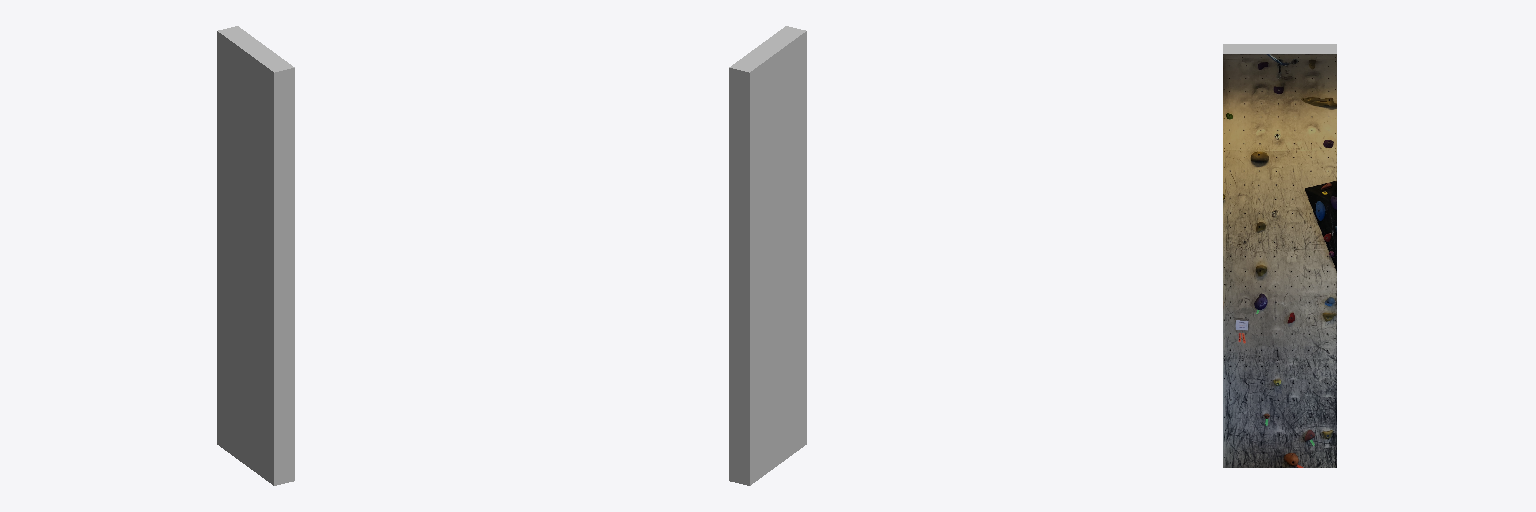
3 views of the same model, side by side, from view 1: azimuth 30°, elevation 25°; view 2: azimuth 150°, elevation 25°; view 3: azimuth 270°, elevation 25° (orthographic).
Visible parts, largest first — view 1: Cube; view 2: Cube; view 3: Cube.
Part boxes in pixels (x1,y1,x2,y2): Cube: (217,26,294,485); Cube: (729,26,806,485); Cube: (1223,44,1336,467).
Size of the model in its own units: 0.25 by 4.8 by 1.2.
2 materials, 1 textured.